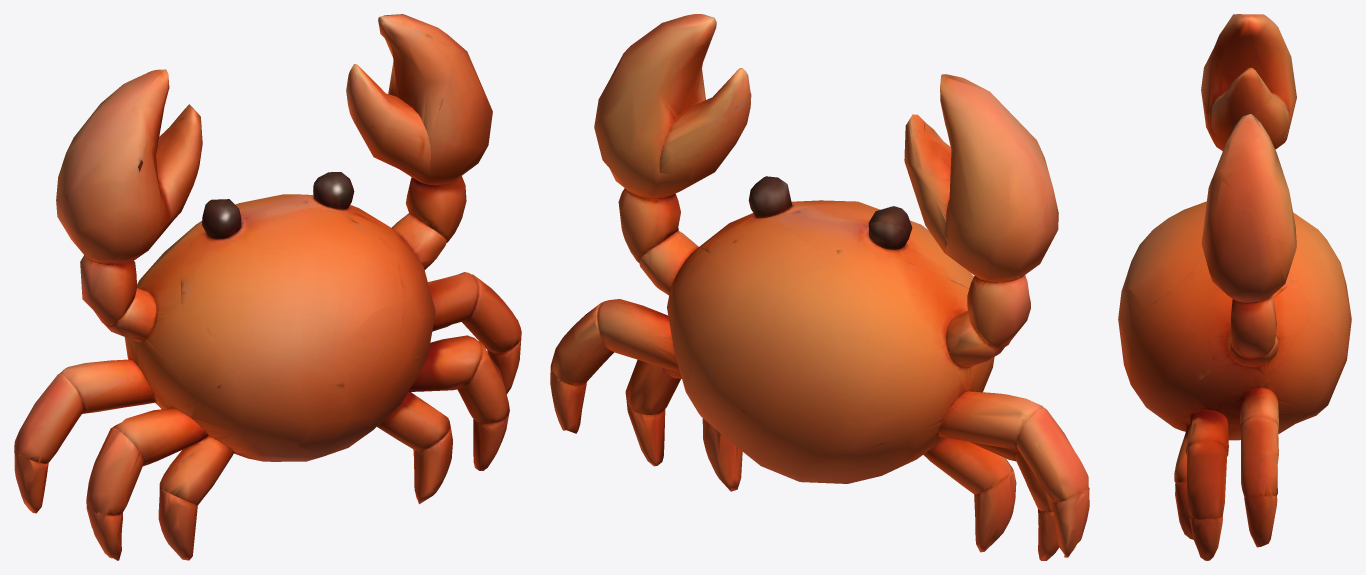
File: crab_pbr.glb
The picture shows the model from 3 angles, left to right: view 1: azimuth 30°, elevation 25°; view 2: azimuth 150°, elevation 25°; view 3: azimuth 270°, elevation 25°; orthographic projection. The views are drawn at different scales.
Visible parts, largest first — view 1: model; view 2: model; view 3: model.
Boxes of the visible parts, x1=… form: model: x1=14, y1=14, x2=521, y2=560; model: x1=550, y1=14, x2=1089, y2=560; model: x1=1118, y1=14, x2=1351, y2=560.
Size of the model in its own units: 1.89 by 1.69 by 0.8437.
Materials: 1 (1 with a texture image).
